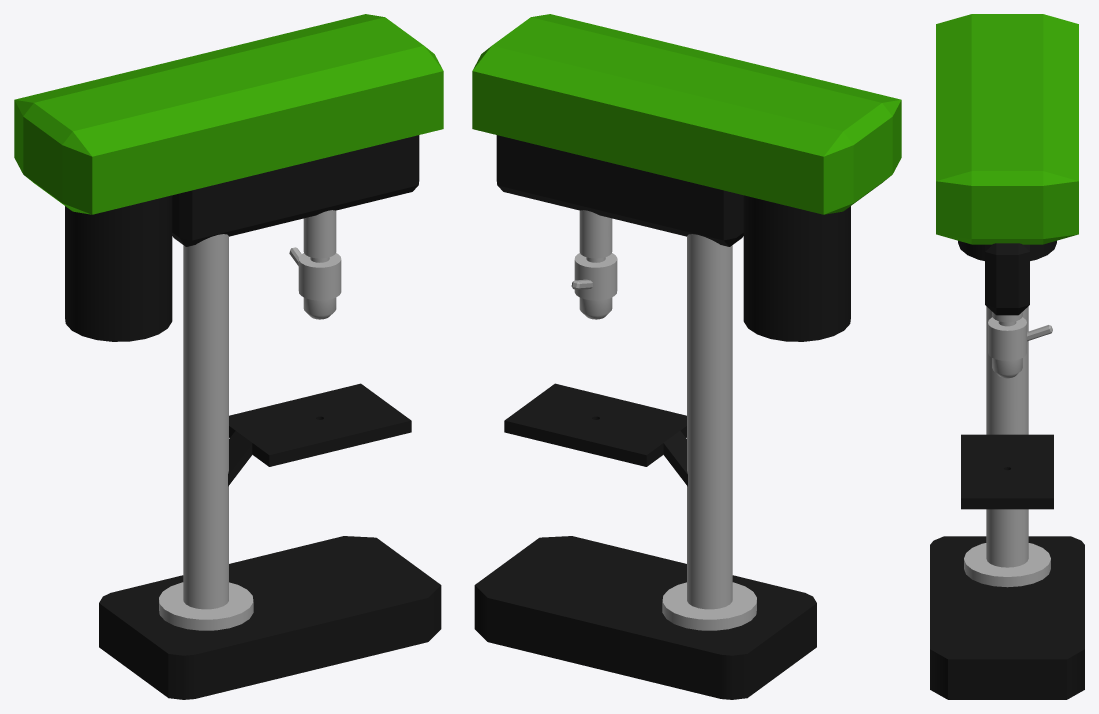
File: DrillPress.fbx
3 renders of one model, left to right at view 1: azimuth 30°, elevation 25°; view 2: azimuth 150°, elevation 25°; view 3: azimuth 270°, elevation 25°, orthographic. The views are drawn at different scales.
Visible parts, largest first — view 1: pCube141, pCube143, pCylinder35, pCylinder36, pCube142, pCube146, pCylinder38; view 2: pCube141, pCube143, pCylinder35, pCylinder36, pCube142, pCube146, pCylinder38; view 3: pCube141, pCube143, pCylinder35, pCube146, pCube142, pCylinder38, pCylinder36.
Part boxes in pixels (box(x1,y1,x2,y2)): pCube141: box(14, 14, 443, 214); pCube143: box(99, 536, 441, 699); pCylinder35: box(159, 234, 253, 630); pCylinder36: box(65, 195, 172, 341); pCube142: box(172, 135, 419, 246); pCube146: box(228, 383, 411, 486); pCylinder38: box(298, 210, 341, 319); pCube141: box(472, 14, 901, 214); pCube143: box(474, 536, 816, 699); pCylinder35: box(662, 234, 756, 630); pCylinder36: box(743, 195, 850, 341); pCube142: box(496, 135, 743, 246); pCube146: box(504, 383, 687, 486); pCylinder38: box(574, 210, 617, 319); pCube141: box(936, 14, 1078, 244); pCube143: box(930, 536, 1084, 699); pCylinder35: box(964, 306, 1050, 587); pCube146: box(961, 434, 1053, 509); pCube142: box(985, 243, 1029, 315); pCylinder38: box(988, 312, 1026, 378); pCylinder36: box(958, 240, 1056, 260).
Bounding box in the file's own units: 8.8 × 12.99 × 3.46.
